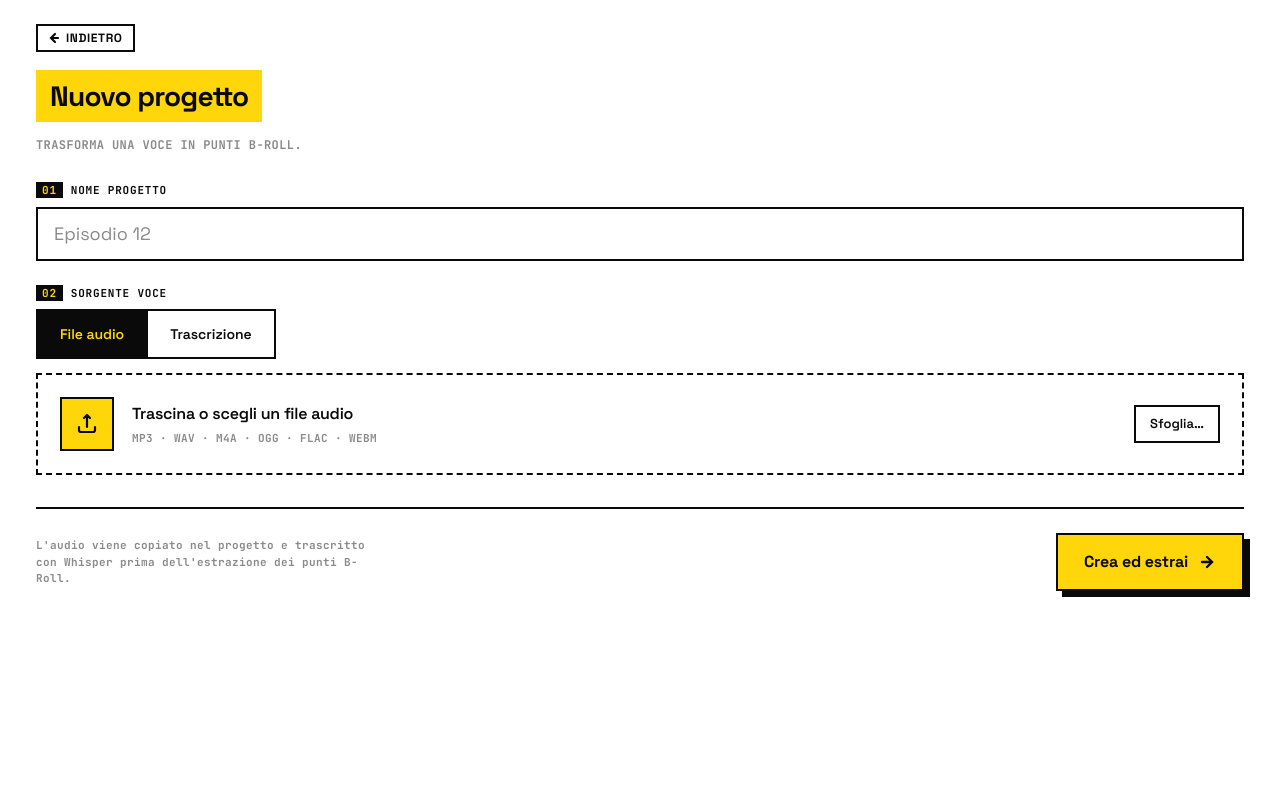
Test: ImportPage › shows IPC error when project creation fails
Click the tab "Trascrizione" at (211, 334), box [148,311,274,357]
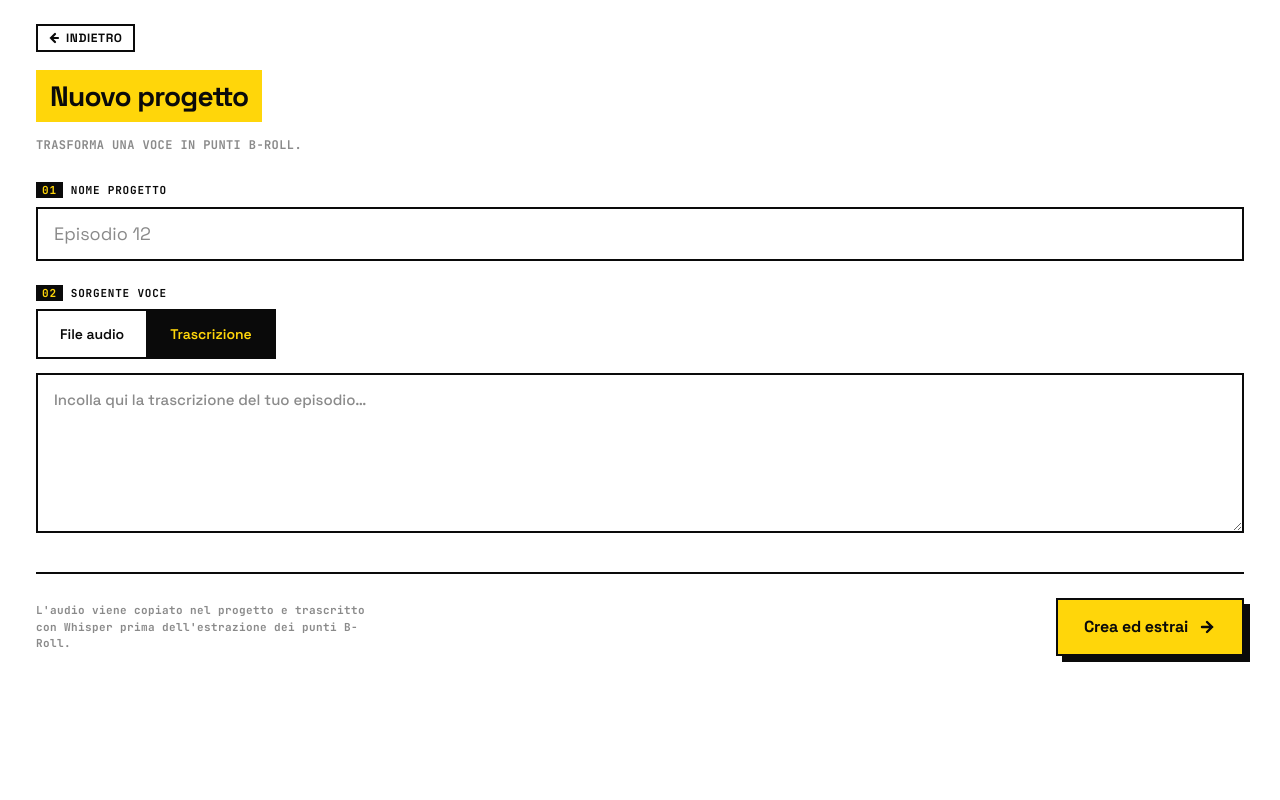
Type "Episode 12" into the field with placeholder "Episodio 12" at (640, 234), box [36,206,1244,260]
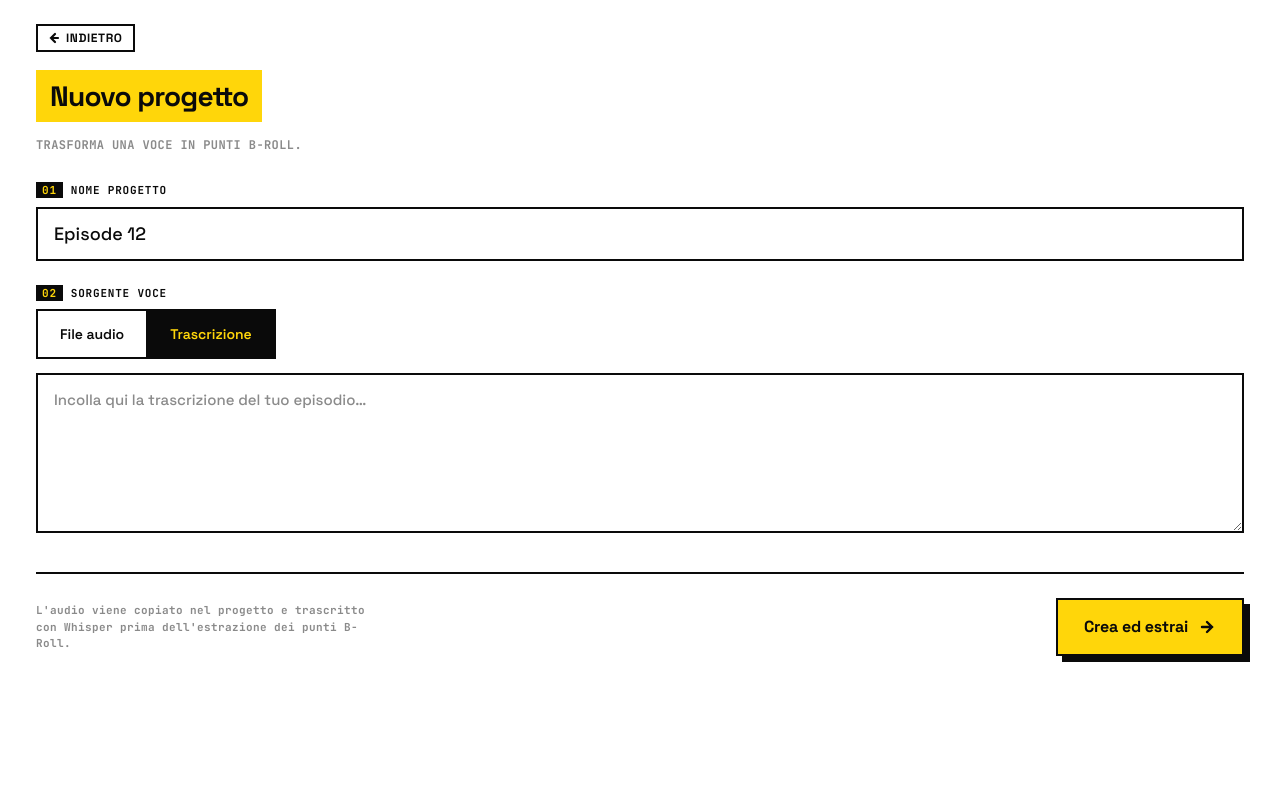
Type "Text voiceover" into the text box with placeholder "Incolla qui la trascrizione del tuo episodio…" at (640, 453), box [36,373,1244,533]
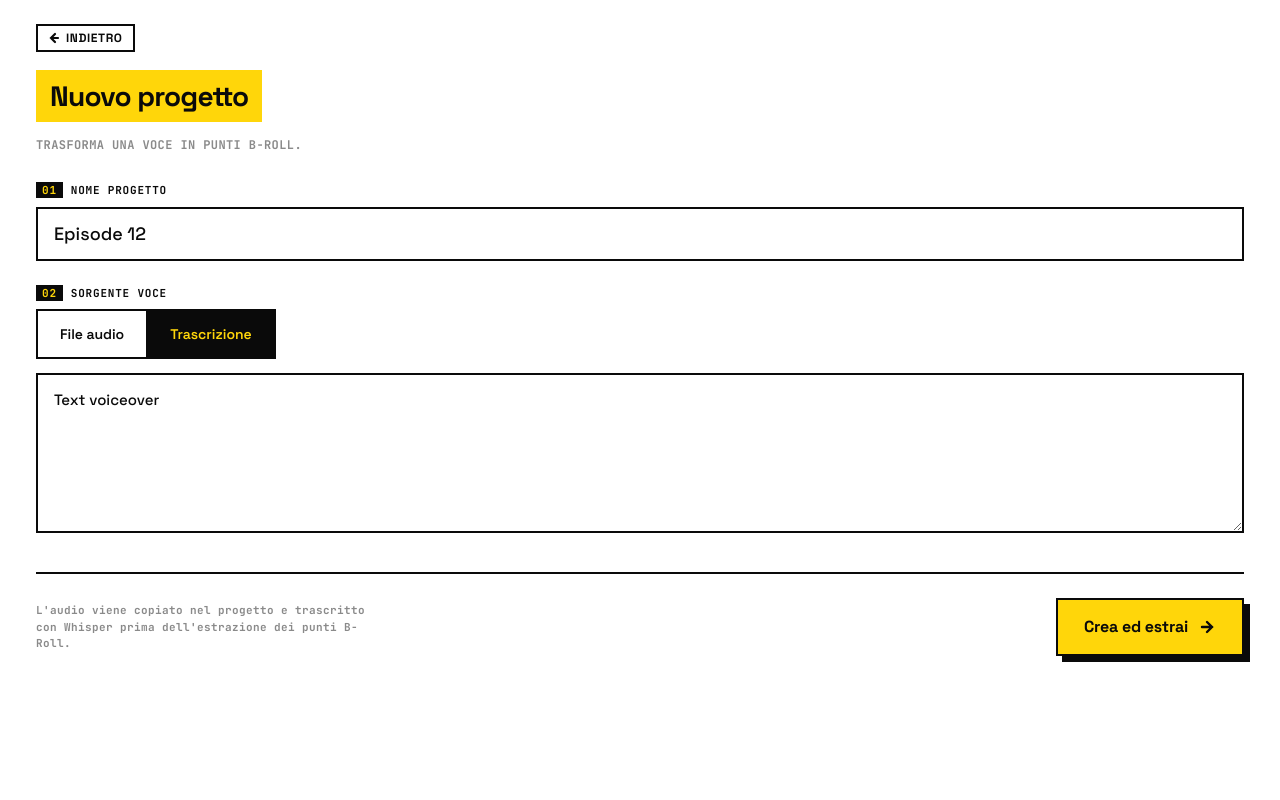
Click the button "Crea ed estrai" at (1150, 627), box [1056,598,1244,656]
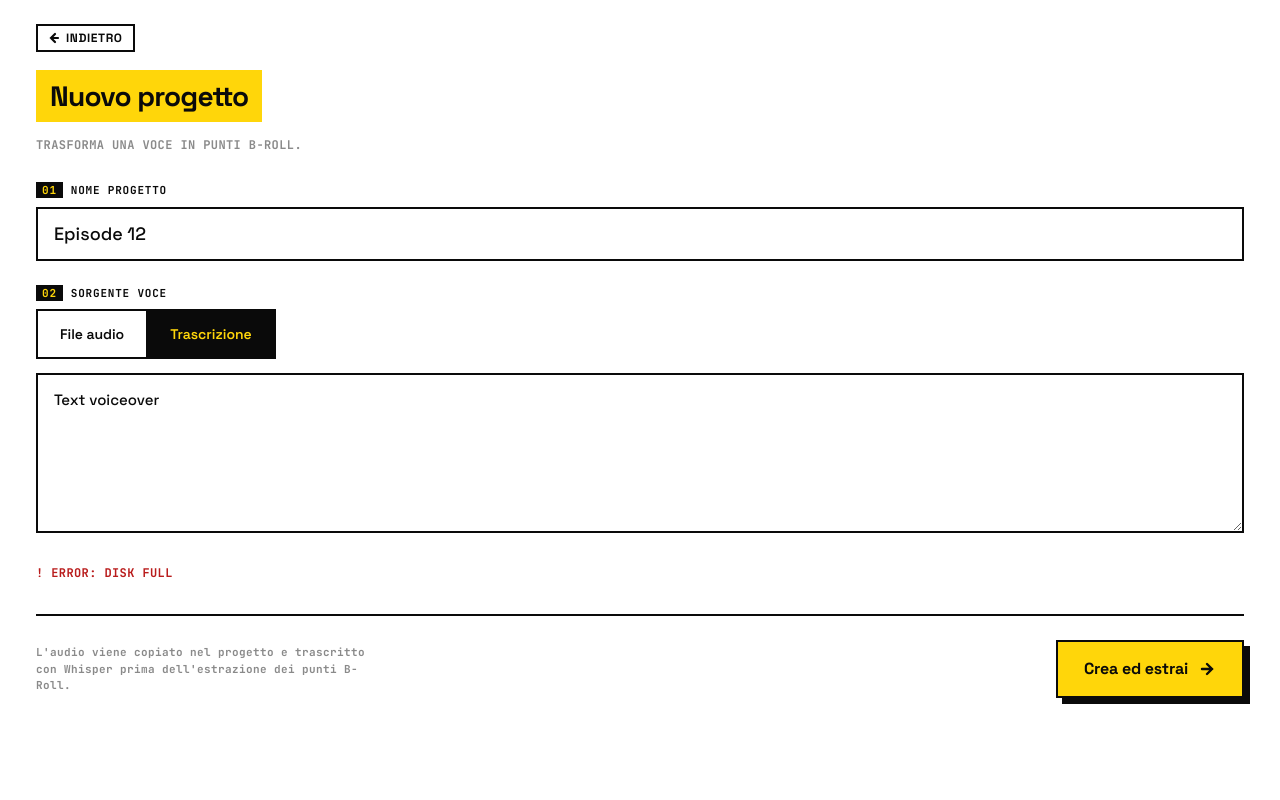
Expected: the text "! Error: disk full" is shown, [36,565,173,581]
